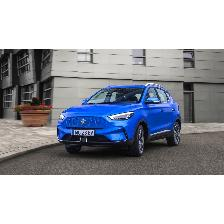EV: (58, 83, 182, 158)
